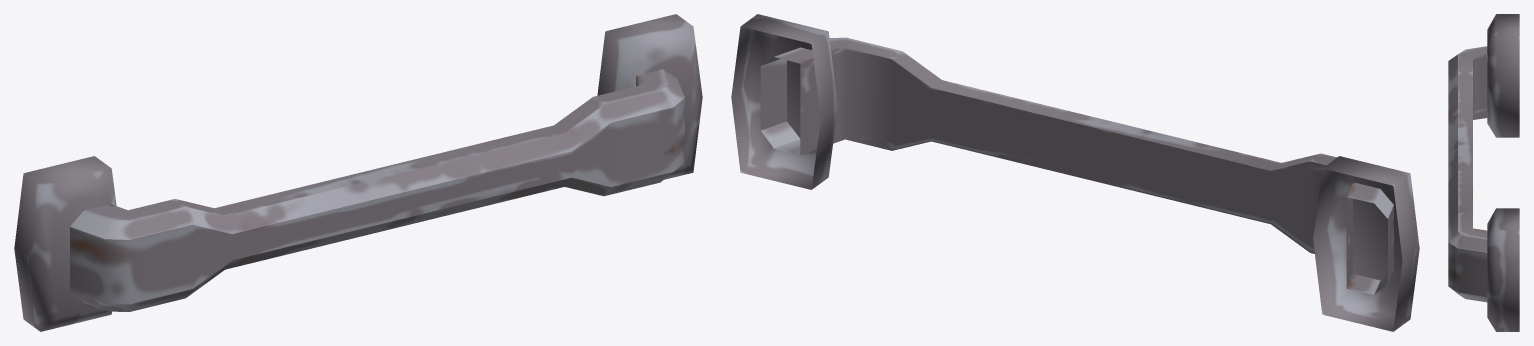
File: Parts_Handle_Straight.fbx
3 renders of one model, left to right at view 1: azimuth 30°, elevation 25°; view 2: azimuth 150°, elevation 25°; view 3: azimuth 270°, elevation 25°, orthographic. The views are drawn at different scales.
Parts seen in each view (by area): view 1: Parts_Handle_Straight; view 2: Parts_Handle_Straight; view 3: Parts_Handle_Straight.
Part boxes in pixels (<box>): Parts_Handle_Straight: <box>14,14,702,331</box>; Parts_Handle_Straight: <box>731,14,1419,331</box>; Parts_Handle_Straight: <box>1448,14,1519,331</box>.
Bounding box in the file's own units: 31.17 × 6.48 × 4.19.
